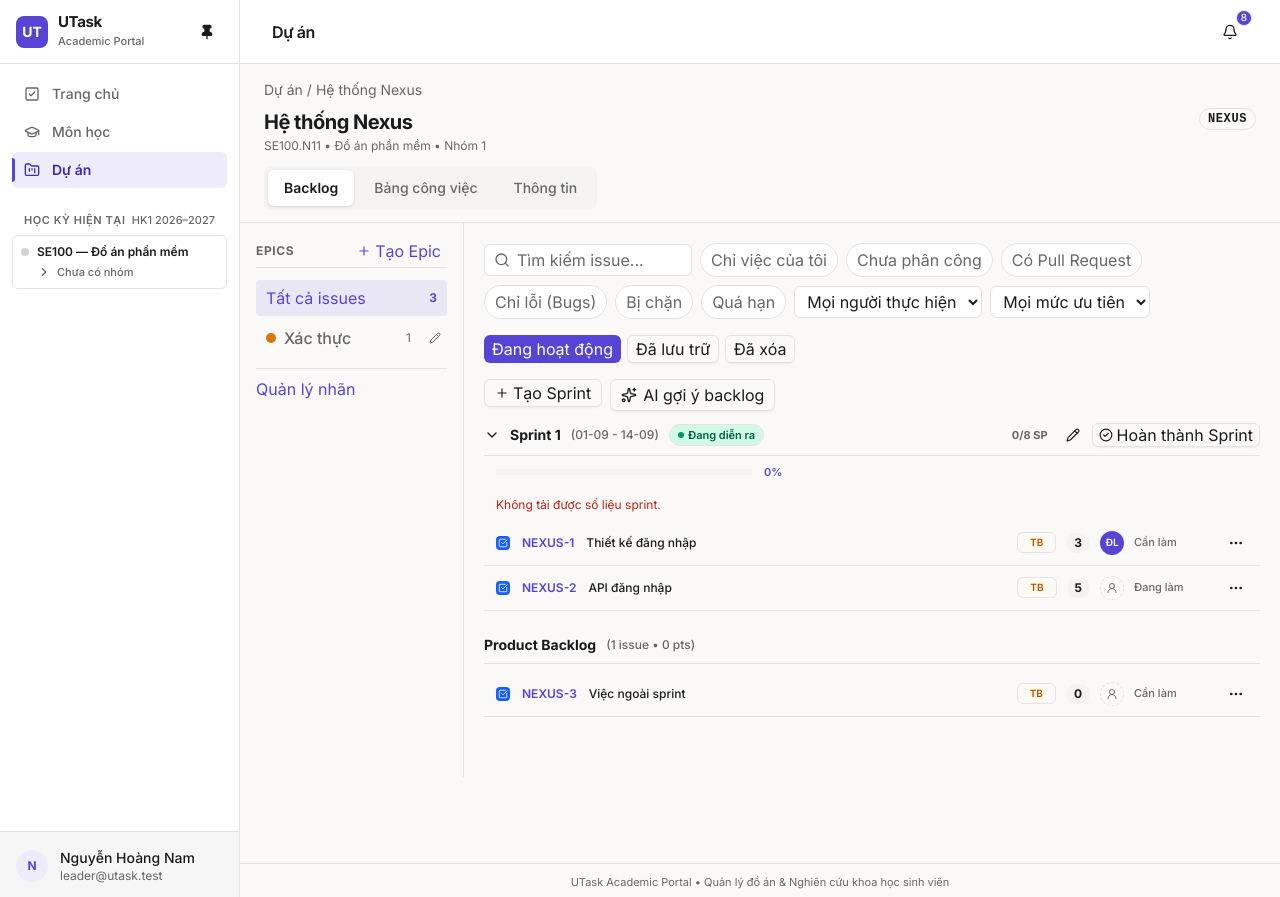
Real project tabs › navigates between Backlog, Board and Info
This screenshot has width=1280, height=897.
Click the link "Bảng công việc".
click(426, 188)  # box [374,179,478,196]
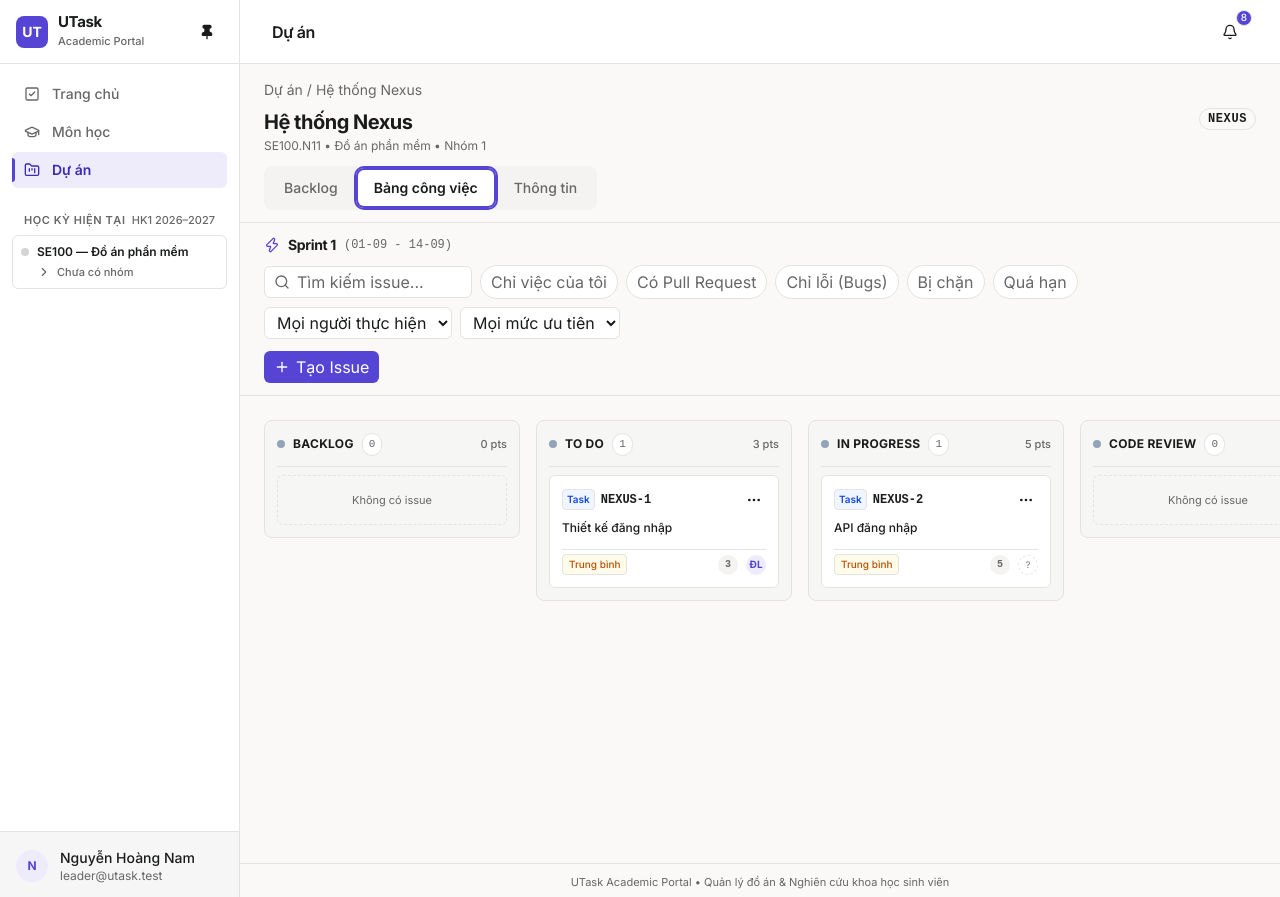
Expected: the element "To Do" is shown, [536,420,792,601]
Click the link "Thông tin".
click(546, 188)  # box [514,179,577,196]
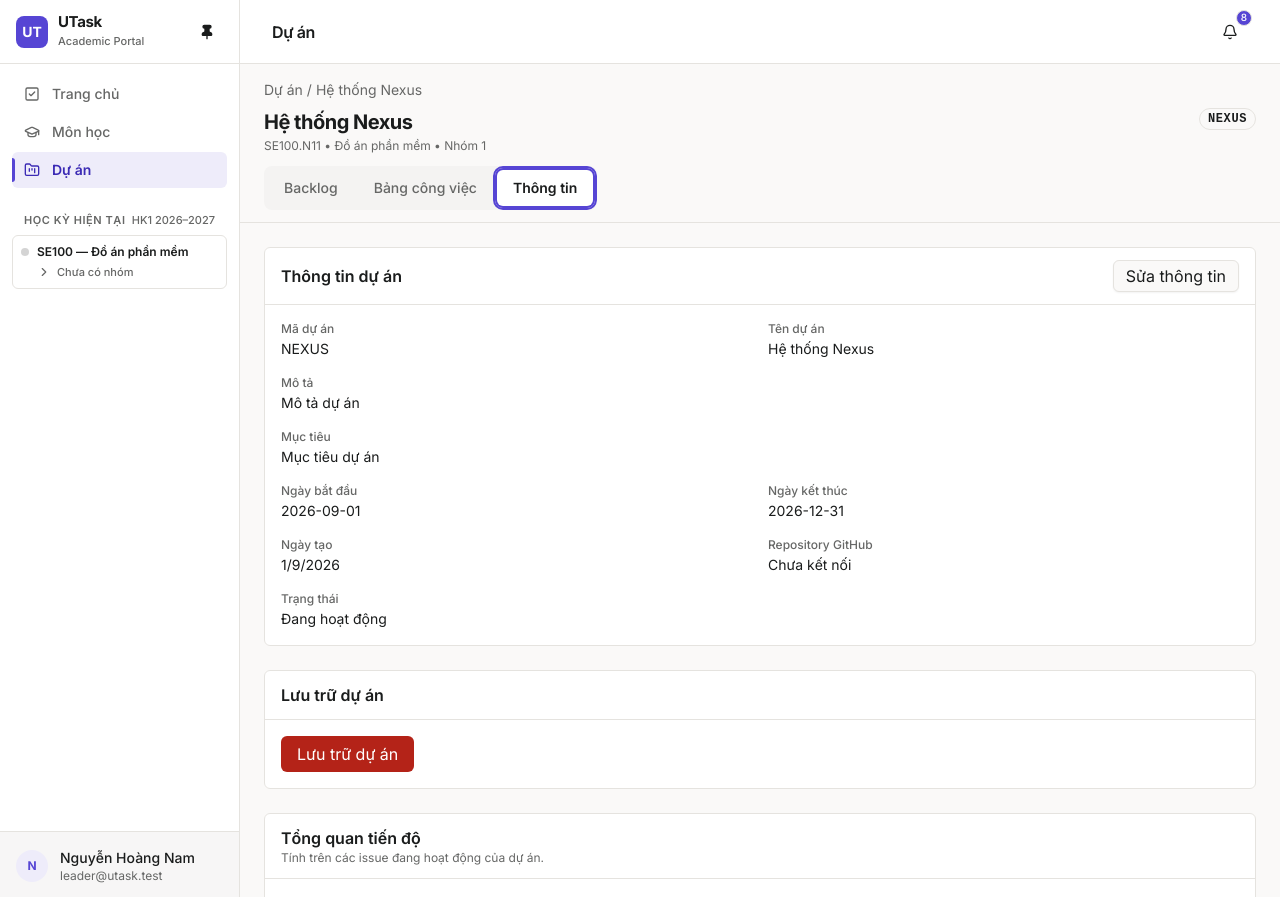
Expected: the heading "Thông tin dự án" is shown, [281,264,402,288]
